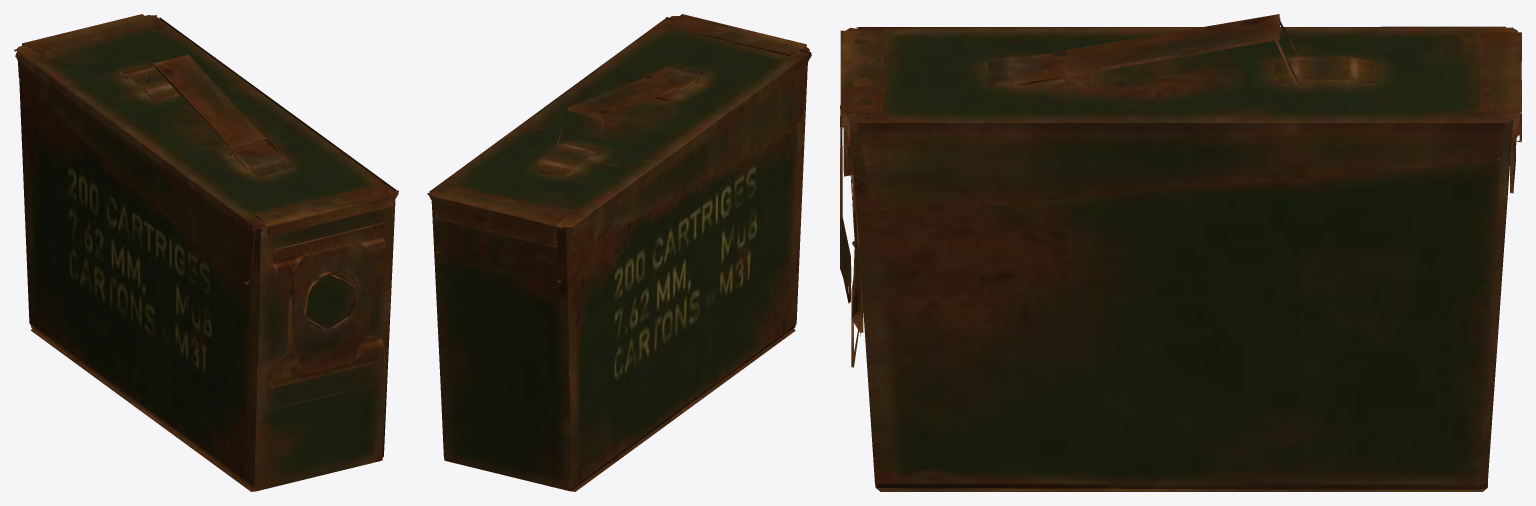
File: ammo_box.glb
The picture shows the model from 3 angles, left to right: view 1: azimuth 30°, elevation 25°; view 2: azimuth 150°, elevation 25°; view 3: azimuth 270°, elevation 25°; orthographic projection. The views are drawn at different scales.
Parts seen in each view (by area): view 1: ammo_box; view 2: ammo_box; view 3: ammo_box.
Boxes of the visible parts, box(x1,y1,x2,y2) form: ammo_box: box(14, 14, 398, 491); ammo_box: box(427, 14, 811, 491); ammo_box: box(840, 14, 1521, 491).
Bounding box in the file's own units: 0.0869 × 0.1765 × 0.2577.
Materials: 1 (1 with a texture image).
